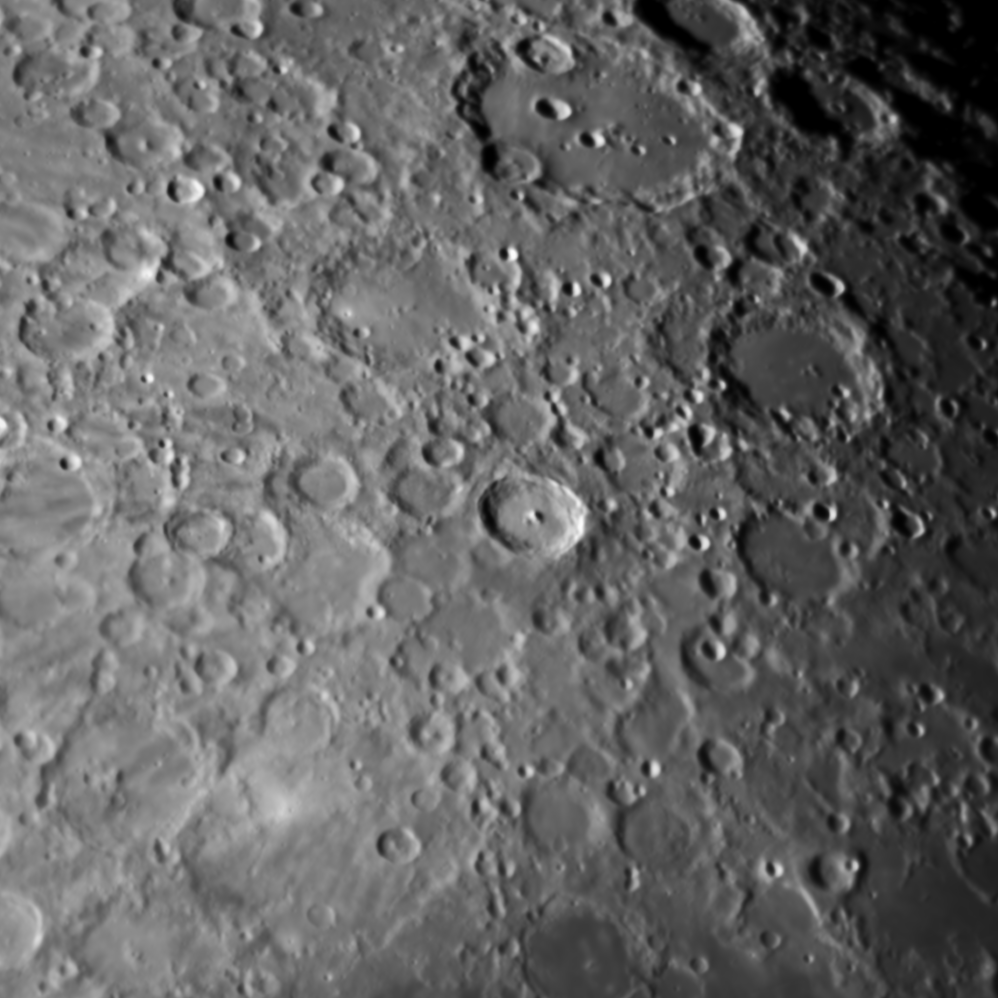crater: (415, 19, 759, 260), (439, 444, 616, 611), (6, 273, 132, 391), (153, 481, 260, 587), (92, 98, 202, 183), (445, 129, 561, 207), (482, 12, 581, 87), (741, 833, 800, 911), (355, 822, 435, 875)
